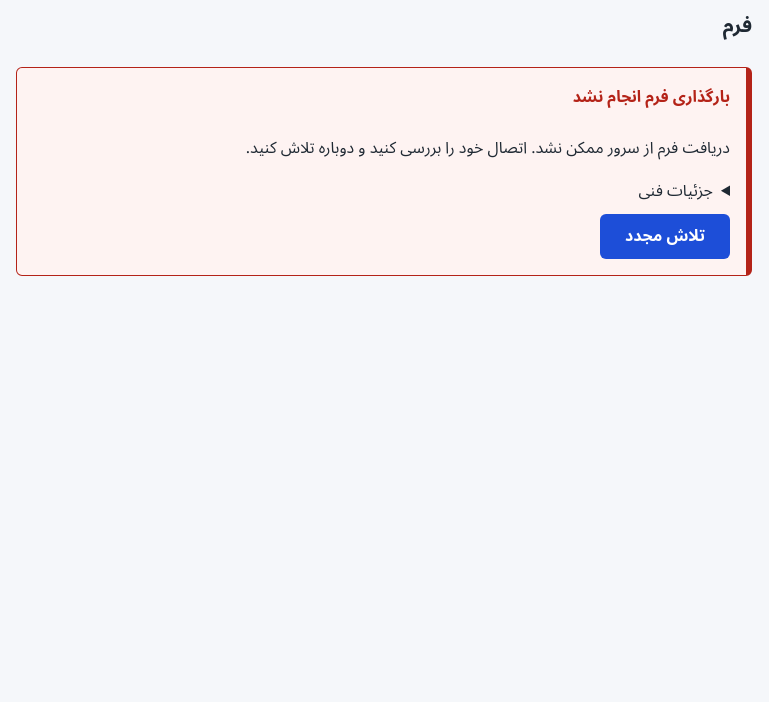
when the form cannot be loaded (TC-E04) › shows an error with Retry, and Retry loads the form
Expected: the message shows "بارگذاری فرم انجام نشد", [573,80,730,114]
Click the button "تلاش مجدد" at (665, 236), box [600,214,730,259]
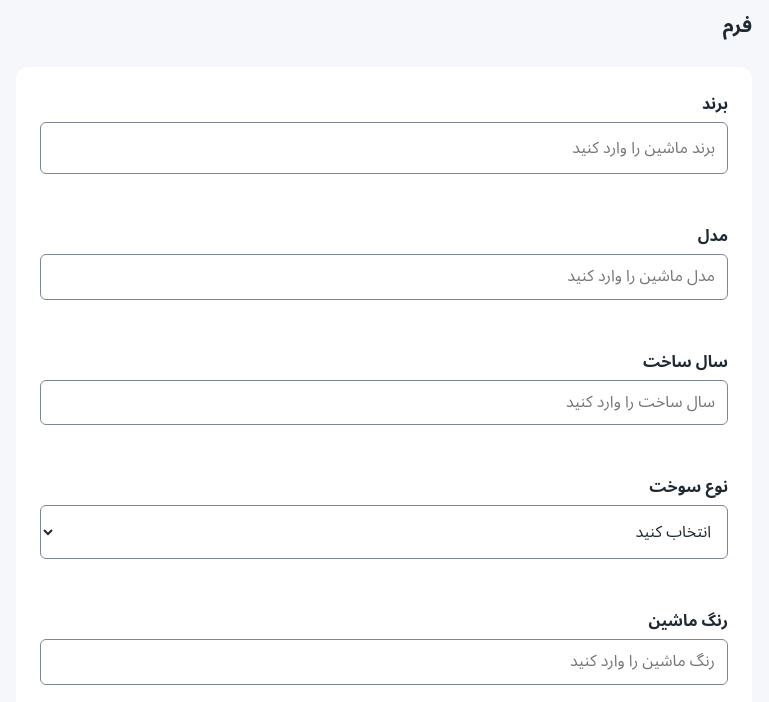
Result: the field labelled "برند" is shown at [40,122,728,174]
Result: the message is gone
